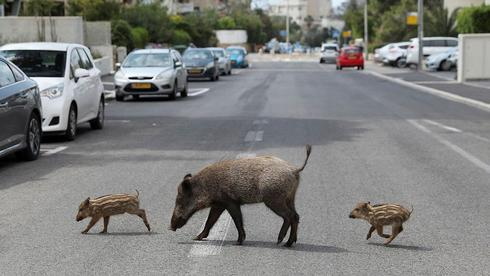boar: (168, 143, 312, 250), (72, 184, 155, 241), (345, 195, 414, 248)
